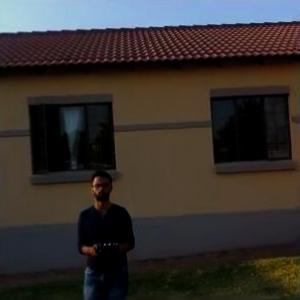follow: (70, 165, 138, 299)
